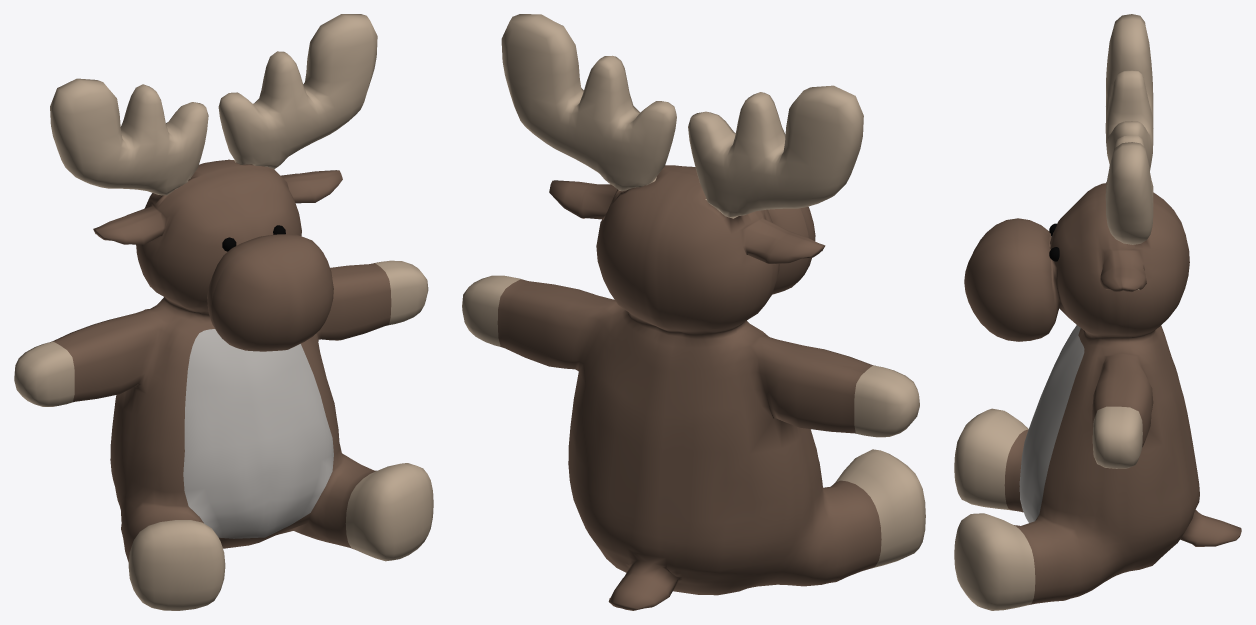
File: model_renne.fbx
The picture shows the model from 3 angles, left to right: view 1: azimuth 30°, elevation 25°; view 2: azimuth 150°, elevation 25°; view 3: azimuth 270°, elevation 25°; orthographic projection. The views are drawn at different scales.
Visible parts, largest first — view 1: body_whole_texture; view 2: body_whole_texture; view 3: body_whole_texture.
Boxes of the visible parts, bbox=[...] form: body_whole_texture: bbox=[14, 14, 433, 610]; body_whole_texture: bbox=[462, 14, 925, 610]; body_whole_texture: bbox=[954, 14, 1241, 610].
Bounding box in the file's own units: 26.01 × 29.54 × 16.31.
Materials: 1 (1 with a texture image).
